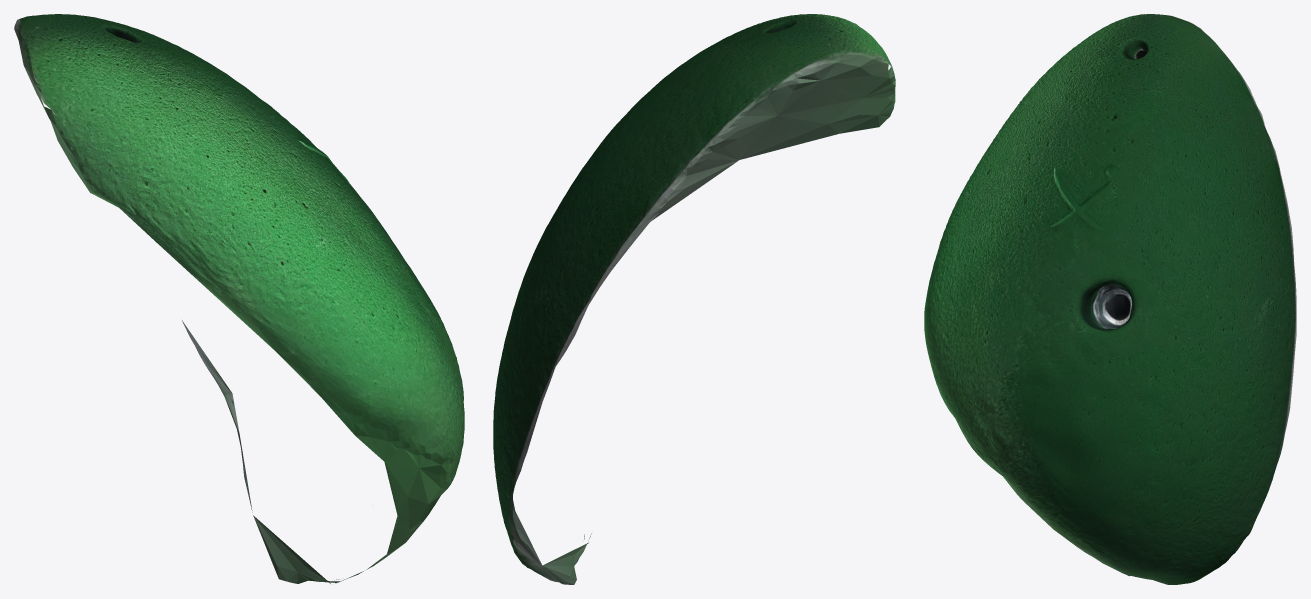
The model's file is Expression_Pure_Eggs_1.glb.
3 renders of one model, left to right at view 1: azimuth 30°, elevation 25°; view 2: azimuth 150°, elevation 25°; view 3: azimuth 270°, elevation 25°, orthographic. The views are drawn at different scales.
Bounding box in the file's own units: 0.6365 × 1.02 × 0.7232.
Materials: 1 (1 with a texture image).
